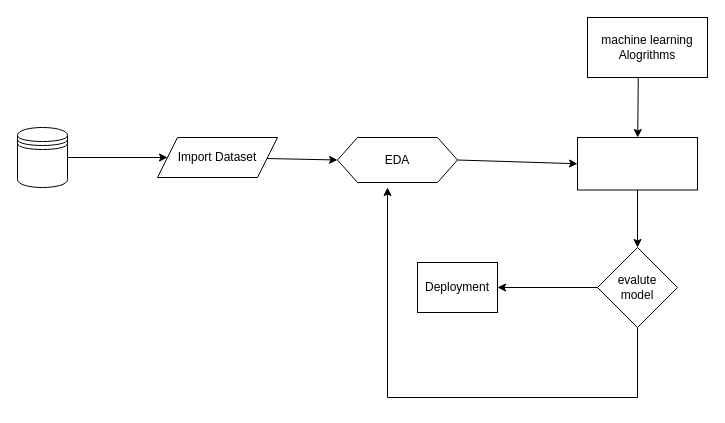
Image size: 725x423. Some labels were removed from this diagram. Here are the shapes that lost their labels. From the top down, the box of each, then its label:
(16, 126, 68, 188): Dataset
(576, 136, 698, 190): Modeling
